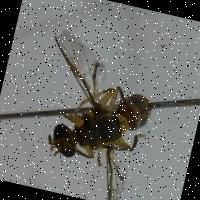Oriental-fruit-fly: (11, 20, 169, 200)
